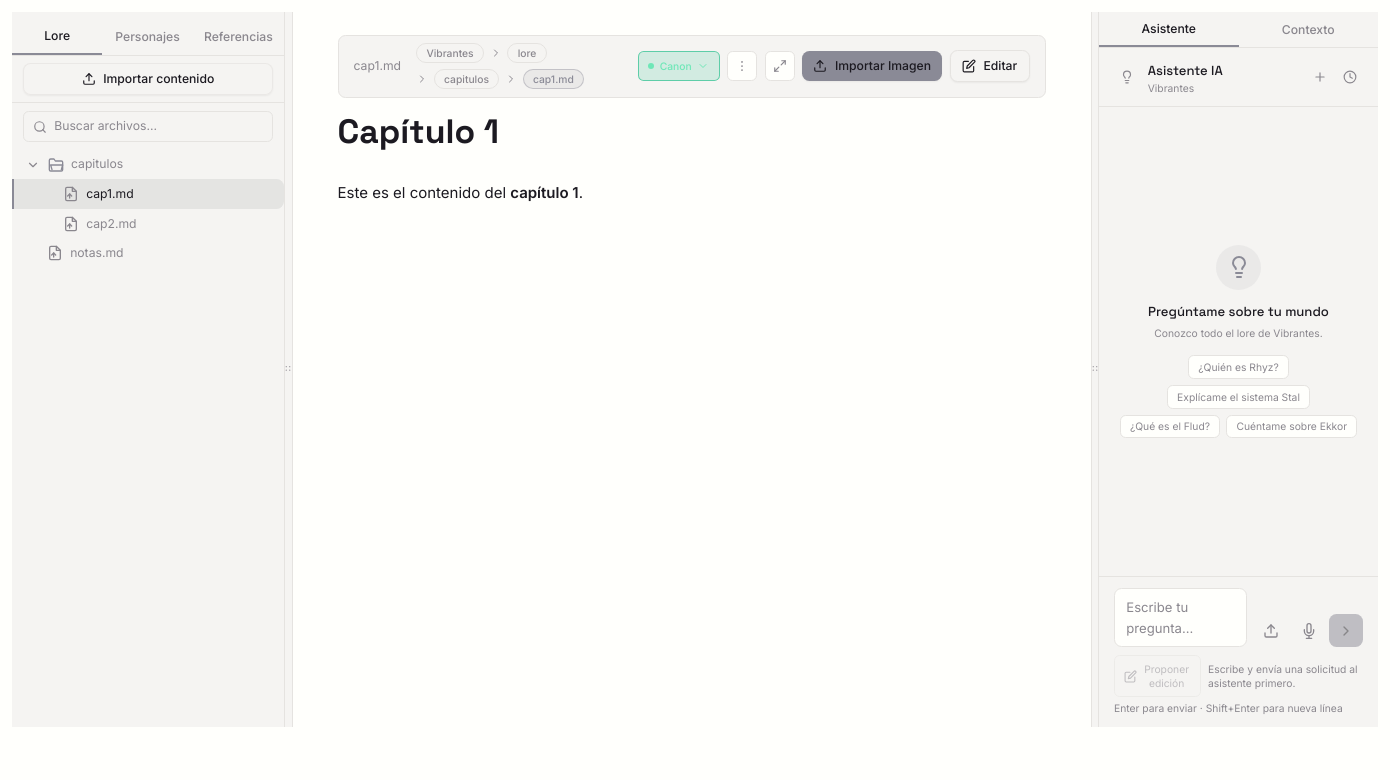
Test: WikiEditor › shows review controls when editing
Click the button "Editar" at coordinates (990, 66), box [950, 50, 1030, 82]
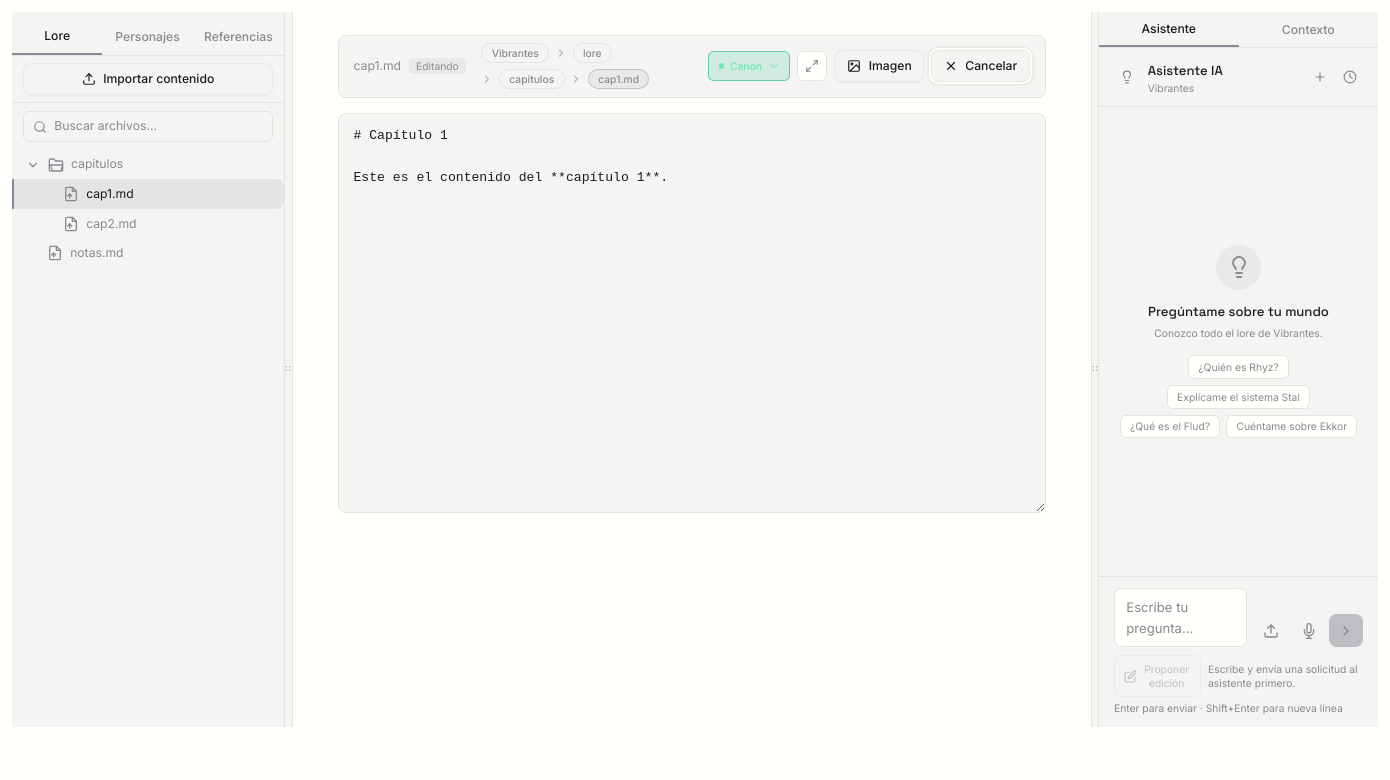
Expected: the button "vista previa" is not shown
Expected: the button "Cancelar" is shown, [932, 50, 1030, 82]
Type " modificado" into the text box named "editor de contenido" at coordinates (692, 312), box [338, 112, 1046, 512]
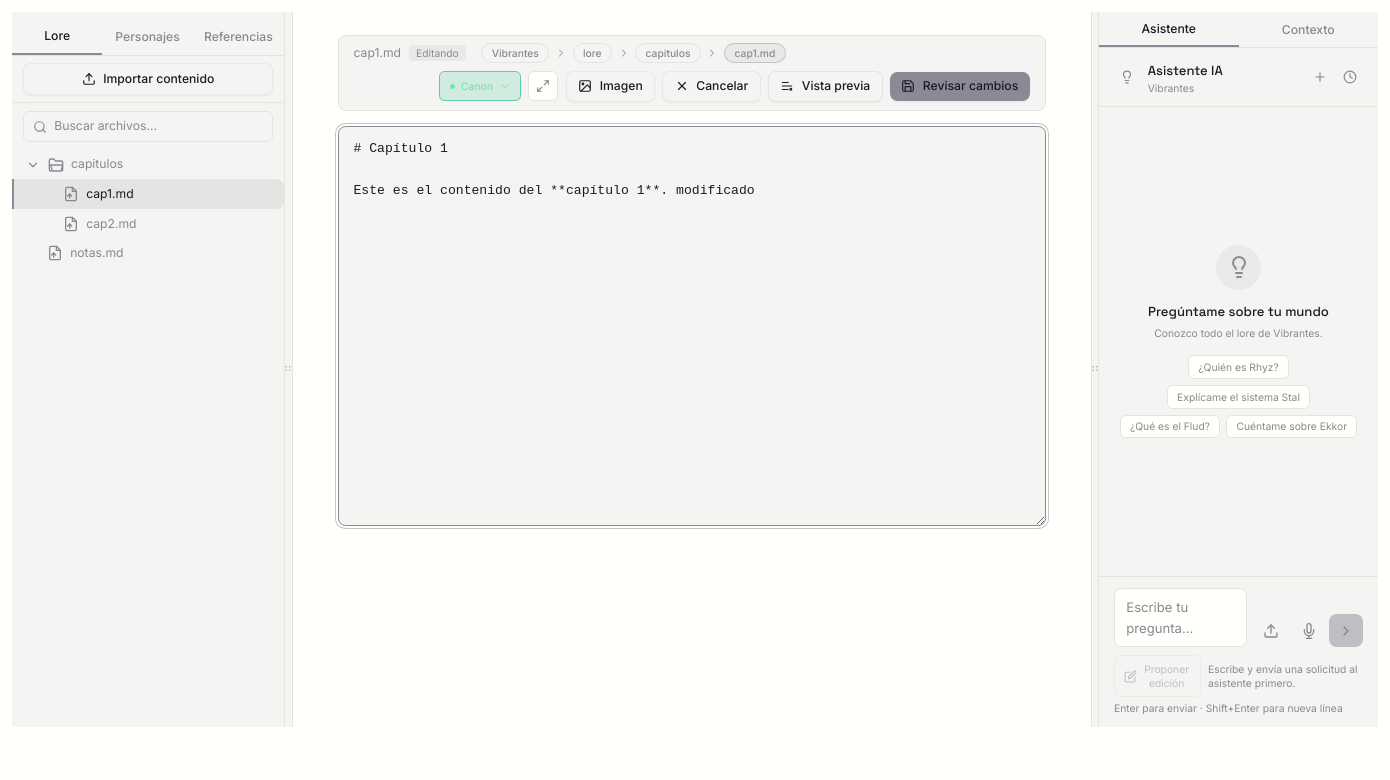
Expected: the button "Cancelar" is shown, [662, 71, 760, 102]
Expected: the button "Vista previa" is shown, [768, 71, 882, 102]
Expected: the button "Revisar cambios" is shown, [890, 72, 1030, 101]
